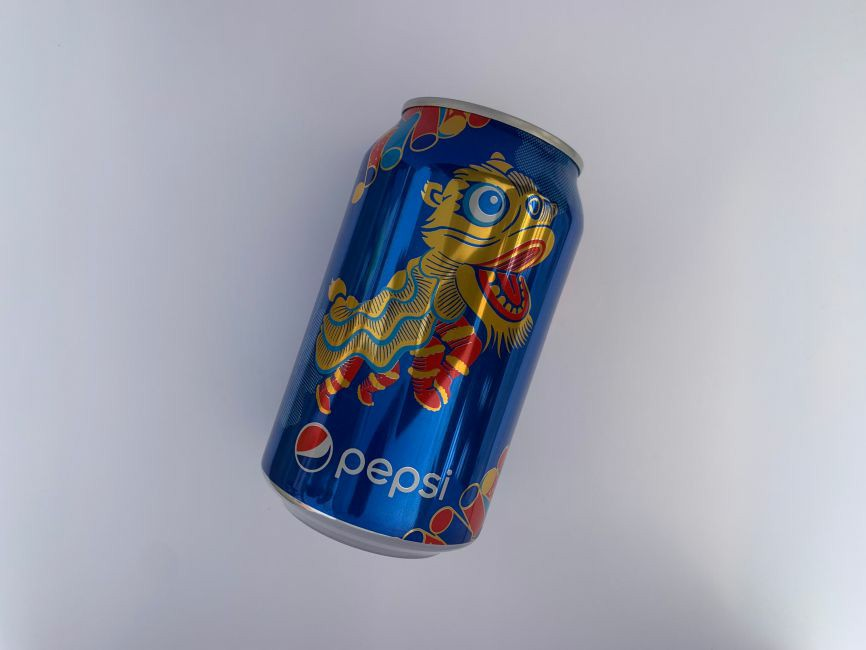can: (252, 94, 591, 563)
